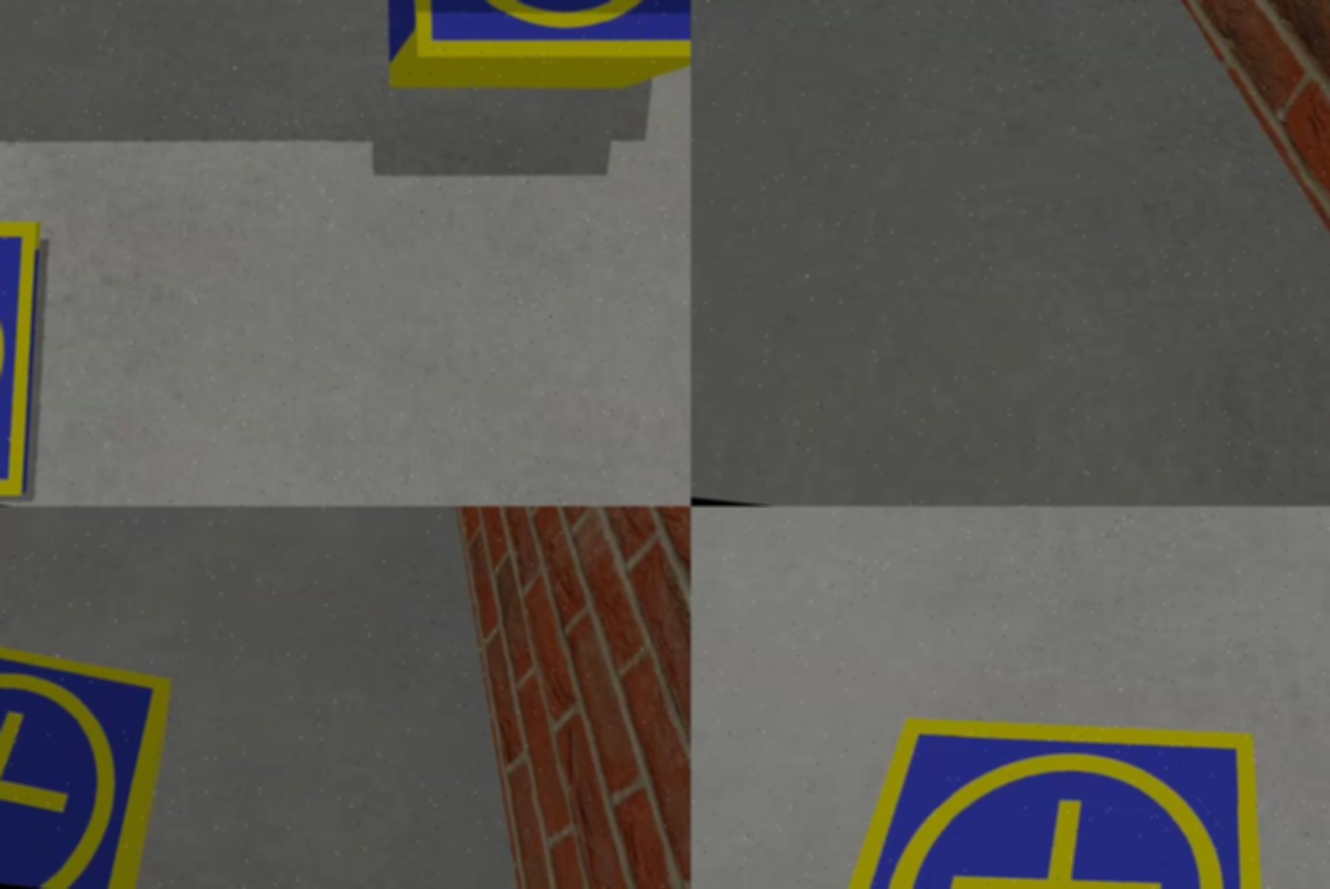small_base: (768, 684, 1316, 889), (1, 621, 179, 889), (378, 1, 692, 89), (1, 191, 67, 506)
